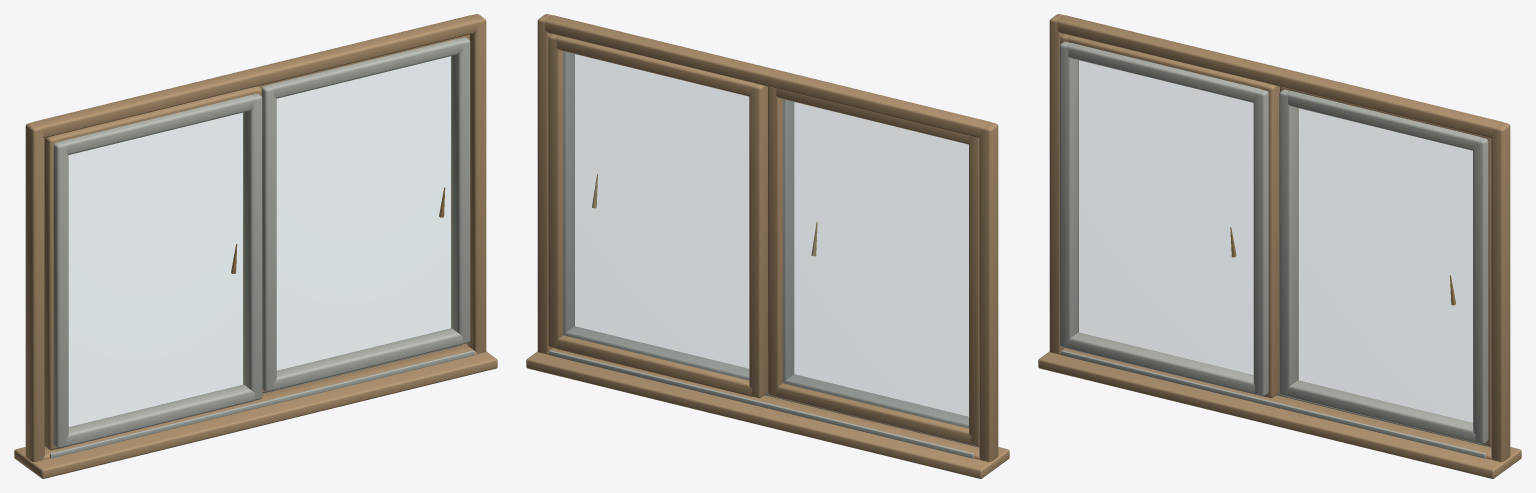
The model's file is window-glider.glb.
3 views of the same model, side by side, from view 1: azimuth 30°, elevation 25°; view 2: azimuth 150°, elevation 25°; view 3: azimuth 330°, elevation 25° (orthographic).
Parts seen in each view (by area): view 1: window-glider; view 2: window-glider; view 3: window-glider.
Part boxes in pixels (x1,y1,x2,y2): window-glider: [14, 14, 497, 478]; window-glider: [526, 14, 1009, 478]; window-glider: [1038, 14, 1521, 478].
Size of the model in its own units: 1.6 by 1.15 by 0.18.
